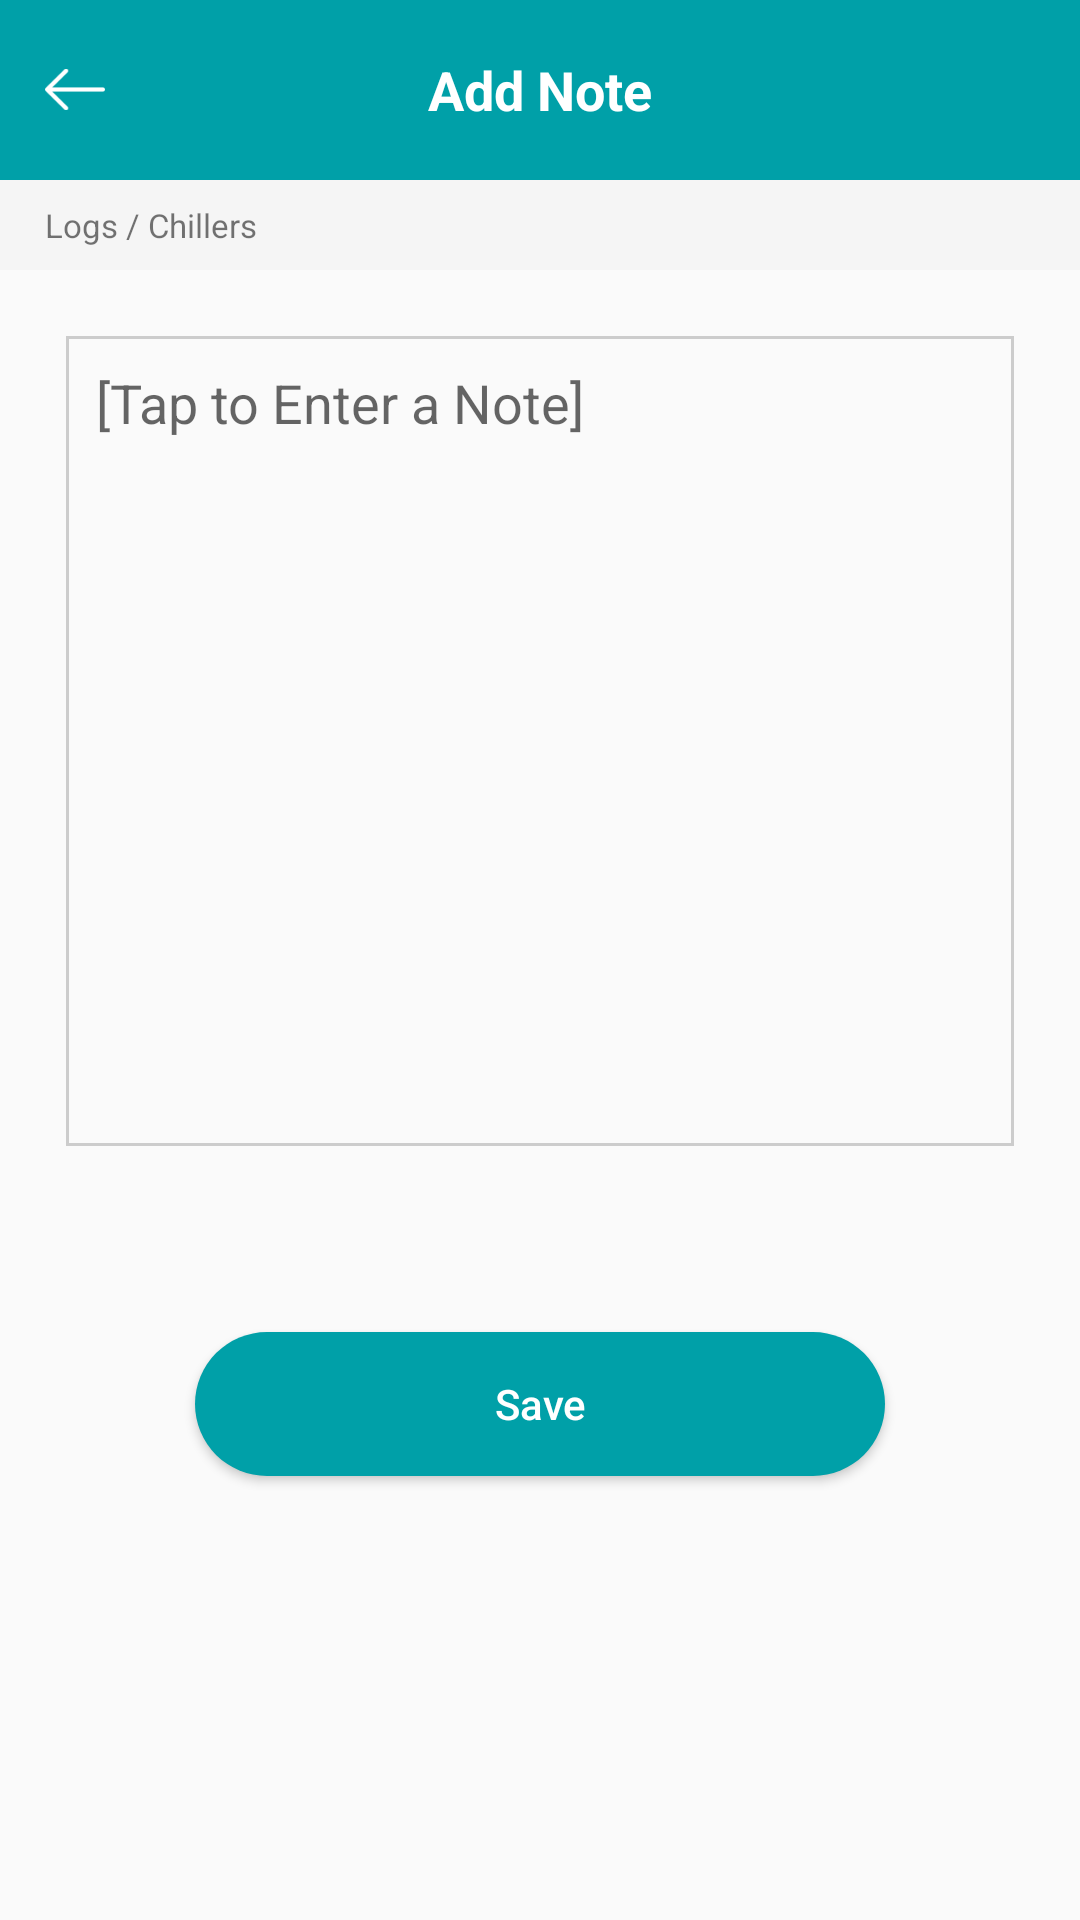

Where to tap for icons on this 1080×1920 app screen, as point (x, y):
back: point (75, 89)
